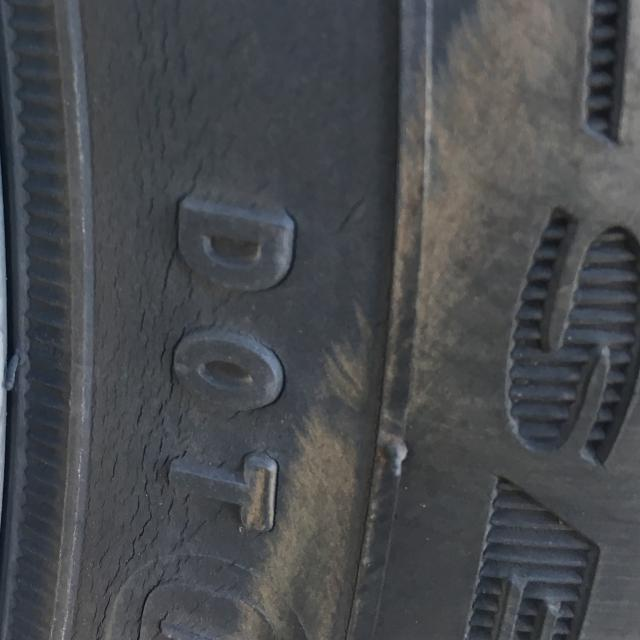Cracks: (59, 0, 259, 640)
Non-defective: (298, 0, 640, 640)
